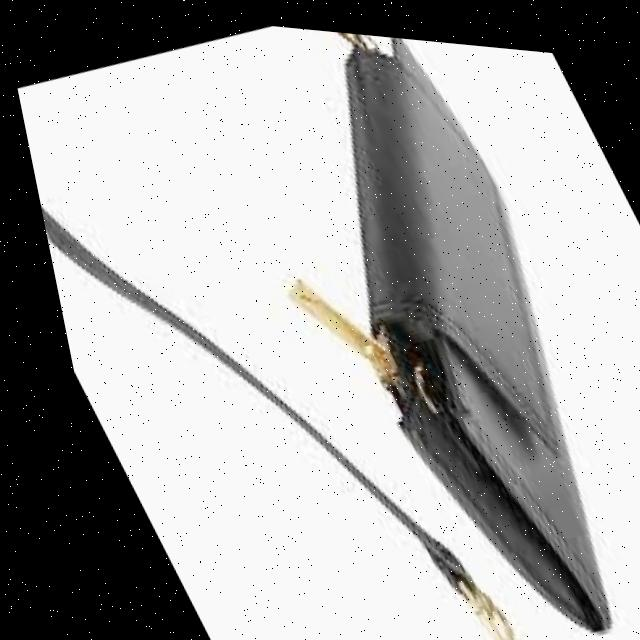cuzdan: (221, 17, 640, 640)
